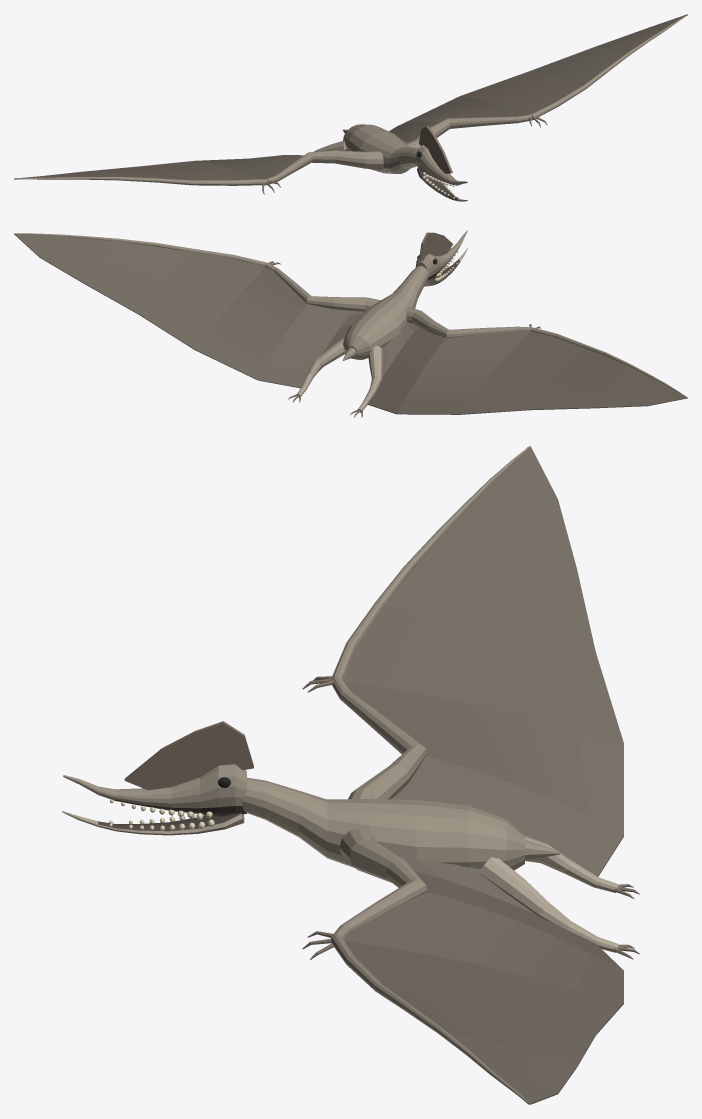
The picture shows the model from 3 angles, top to bottom: view 1: azimuth 30°, elevation 25°; view 2: azimuth 150°, elevation 25°; view 3: azimuth 270°, elevation 25°; orthographic projection. The views are drawn at different scales.
Visible parts, largest first — view 1: right-ankleward-wing-membrane, left-ankleward-wing-membrane, torso-and-neck, left-shoulder-elbow-wrist, left-single-elongated-digit4, right-shoulder-elbow-wrist, right-single-elongated-digit4, upper-skull-rostrum, long-low-cranial-crest, lower-jaw; view 2: right-ankleward-wing-membrane, left-ankleward-wing-membrane, torso-and-neck, right-shoulder-elbow-wrist, left-shoulder-elbow-wrist, right-single-elongated-digit4, right-hip-knee-ankle-foot, left-hip-knee-ankle-foot, left-single-elongated-digit4, long-low-cranial-crest, upper-skull-rostrum; view 3: left-ankleward-wing-membrane, right-ankleward-wing-membrane, torso-and-neck, long-low-cranial-crest, upper-skull-rostrum, right-shoulder-elbow-wrist, left-shoulder-elbow-wrist, right-hip-knee-ankle-foot, left-single-elongated-digit4, right-single-elongated-digit4, lower-jaw, left-hip-knee-ankle-foot (+1 smaller).
Part boxes in pixels (box(x1,y1,x2,y2)): right-ankleward-wing-membrane: box(389, 14, 687, 143); left-ankleward-wing-membrane: box(14, 148, 350, 180); torso-and-neck: box(343, 124, 418, 173); left-shoulder-elbow-wrist: box(267, 150, 383, 184); left-single-elongated-digit4: box(16, 177, 267, 185); right-shoulder-elbow-wrist: box(406, 114, 532, 148); right-single-elongated-digit4: box(531, 14, 687, 119); upper-skull-rostrum: box(415, 145, 467, 185); long-low-cranial-crest: box(419, 126, 452, 173); lower-jaw: box(417, 167, 467, 201); right-ankleward-wing-membrane: box(14, 233, 363, 388); left-ankleward-wing-membrane: box(367, 321, 687, 414); torso-and-neck: box(343, 266, 429, 359); right-shoulder-elbow-wrist: box(265, 263, 380, 311); left-shoulder-elbow-wrist: box(406, 307, 531, 338); right-single-elongated-digit4: box(15, 233, 266, 266); right-hip-knee-ankle-foot: box(296, 338, 345, 397); left-hip-knee-ankle-foot: box(358, 346, 382, 412); left-single-elongated-digit4: box(530, 327, 687, 397); long-low-cranial-crest: box(419, 232, 452, 261); upper-skull-rostrum: box(415, 230, 467, 280); left-ankleward-wing-membrane: box(343, 446, 623, 876); right-ankleward-wing-membrane: box(343, 854, 623, 1104); torso-and-neck: box(242, 777, 524, 870); long-low-cranial-crest: box(124, 721, 253, 790); upper-skull-rostrum: box(63, 764, 246, 816); right-shoulder-elbow-wrist: box(331, 828, 427, 939); left-shoulder-elbow-wrist: box(331, 675, 427, 799); right-hip-knee-ankle-foot: box(479, 857, 618, 952); left-single-elongated-digit4: box(331, 446, 529, 679); right-single-elongated-digit4: box(331, 934, 529, 1104); lower-jaw: box(62, 811, 244, 835); left-hip-knee-ankle-foot: box(525, 836, 618, 892).
Size of the model in its own units: 3.3 by 0.4737 by 1.23.
